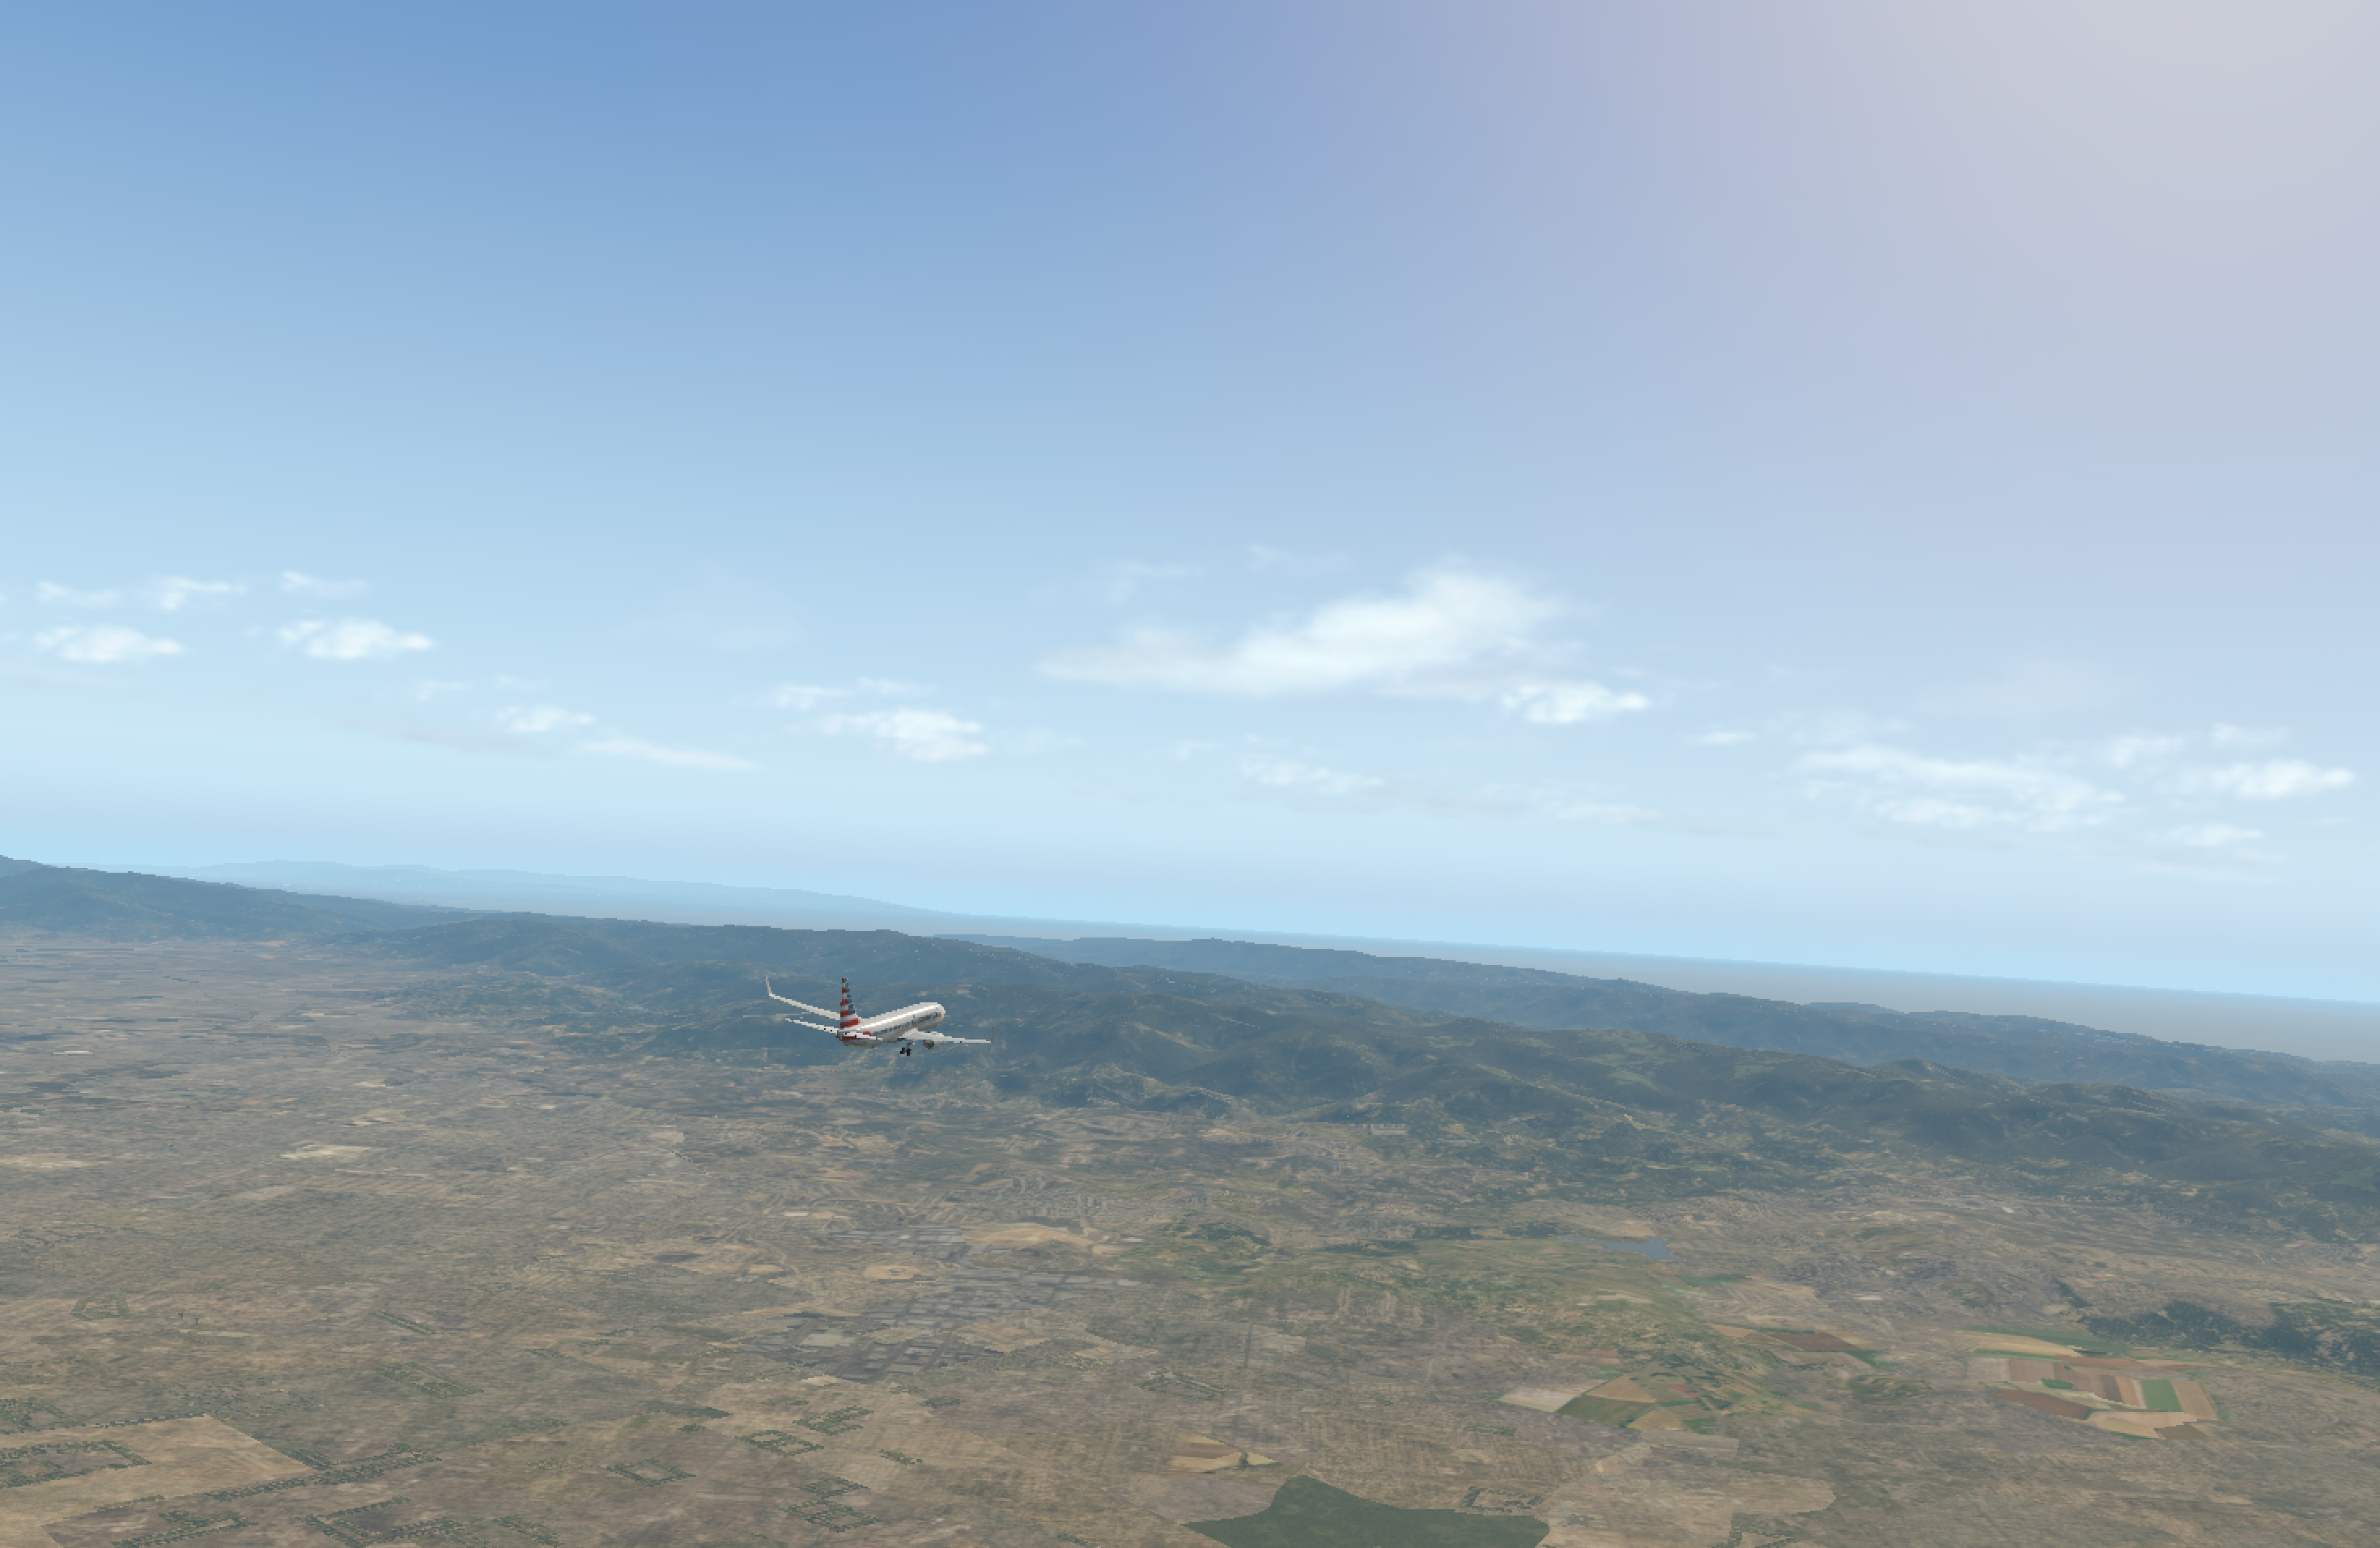aircraft: (758, 979, 1030, 1079)
